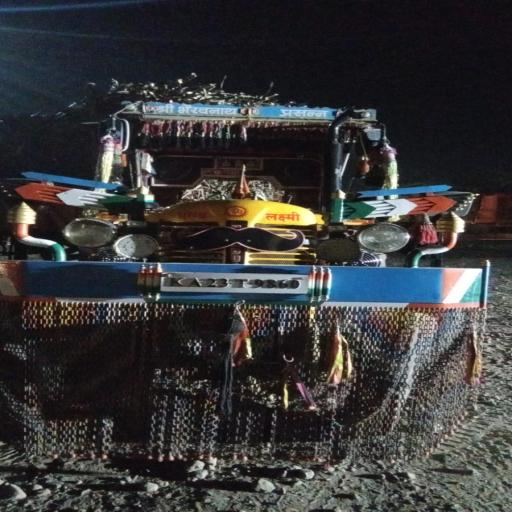number_plate: (148, 272, 328, 298)
